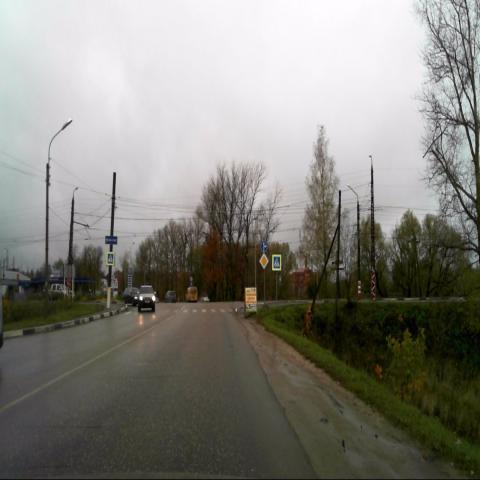2_1: (258, 253, 268, 269)
4_1_4: (260, 239, 267, 253)
5_19_1: (271, 253, 282, 272), (106, 250, 115, 267)
